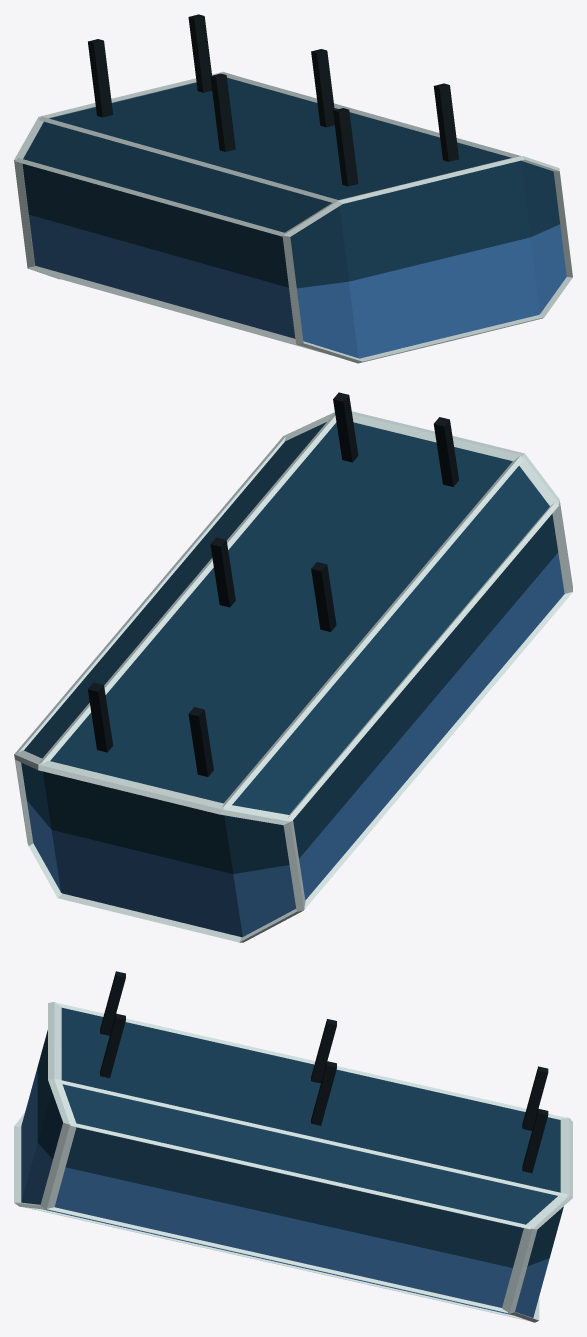
File: Freighter_Cargo.01.fbx
3 views of the same model, one above another, from view 1: azimuth 30°, elevation 25°; view 2: azimuth 150°, elevation 25°; view 3: azimuth 270°, elevation 25° (orthographic). The views are drawn at different scales.
Visible parts, largest first — view 1: CruiserCargo_01_LOD0; view 2: CruiserCargo_01_LOD0; view 3: CruiserCargo_01_LOD0.
Part boxes in pixels (<box>): CruiserCargo_01_LOD0: <box>14,14,572,363</box>; CruiserCargo_01_LOD0: <box>14,392,572,942</box>; CruiserCargo_01_LOD0: <box>14,971,572,1322</box>.
Size of what is drawn, in the model's own units: 3084 by 3574 by 6253.
Materials: 1 (1 with a texture image).
